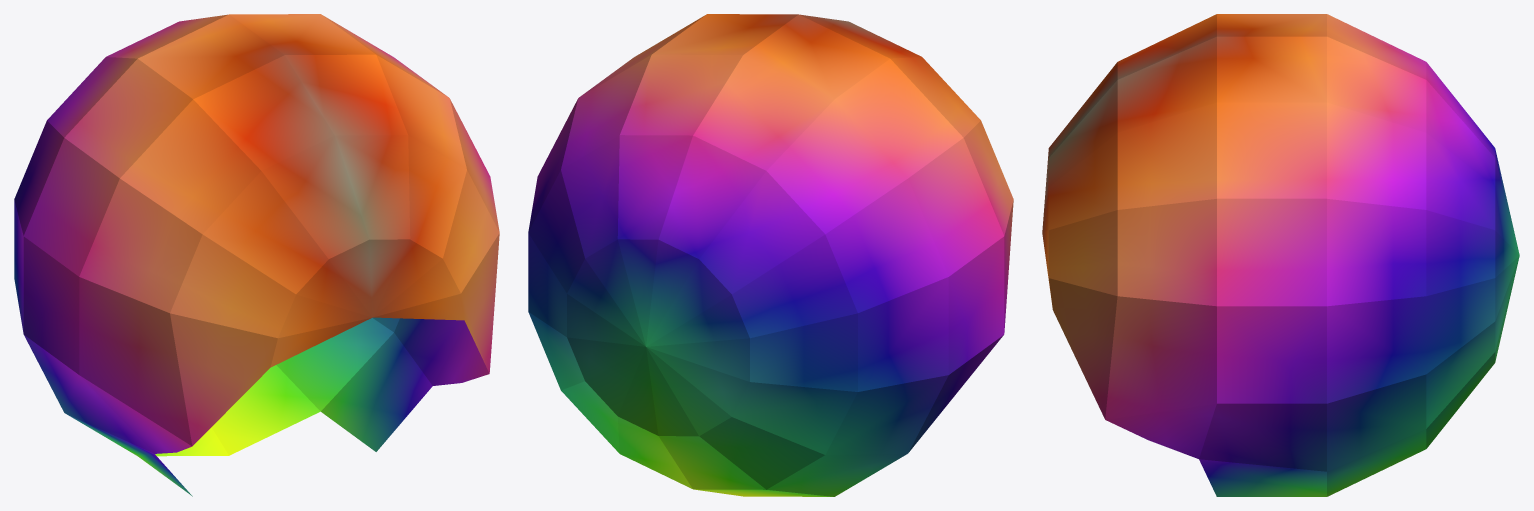
File: clownwig.fbx
3 renders of one model, left to right at view 1: azimuth 30°, elevation 25°; view 2: azimuth 150°, elevation 25°; view 3: azimuth 270°, elevation 25°, orthographic.
Visible parts, largest first — view 1: clownwig; view 2: clownwig; view 3: clownwig.
Part boxes in pixels (x1,y1,x2,y2): clownwig: [14, 14, 499, 496]; clownwig: [528, 14, 1013, 496]; clownwig: [1042, 14, 1519, 496].
Bounding box in the file's own units: 31.91 × 32.74 × 32.36.
